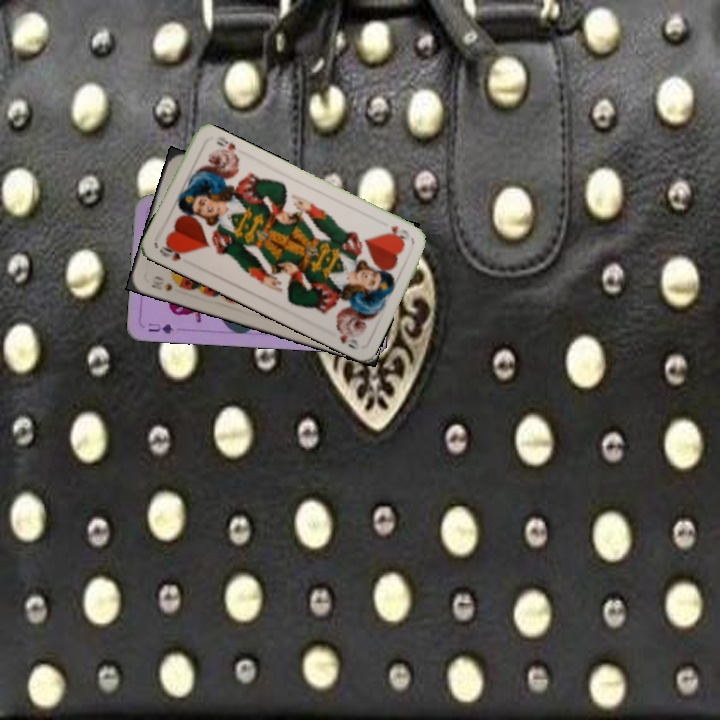GU: (144, 319, 176, 337)
HO: (155, 240, 189, 264), (382, 222, 412, 244)
S10: (147, 272, 175, 294)
